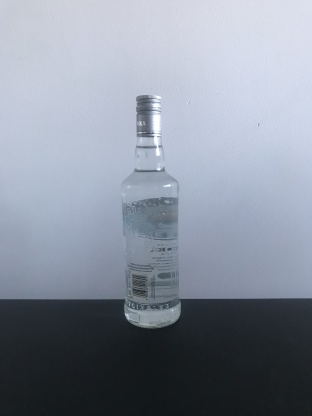nakretka: (134, 92, 163, 140)
